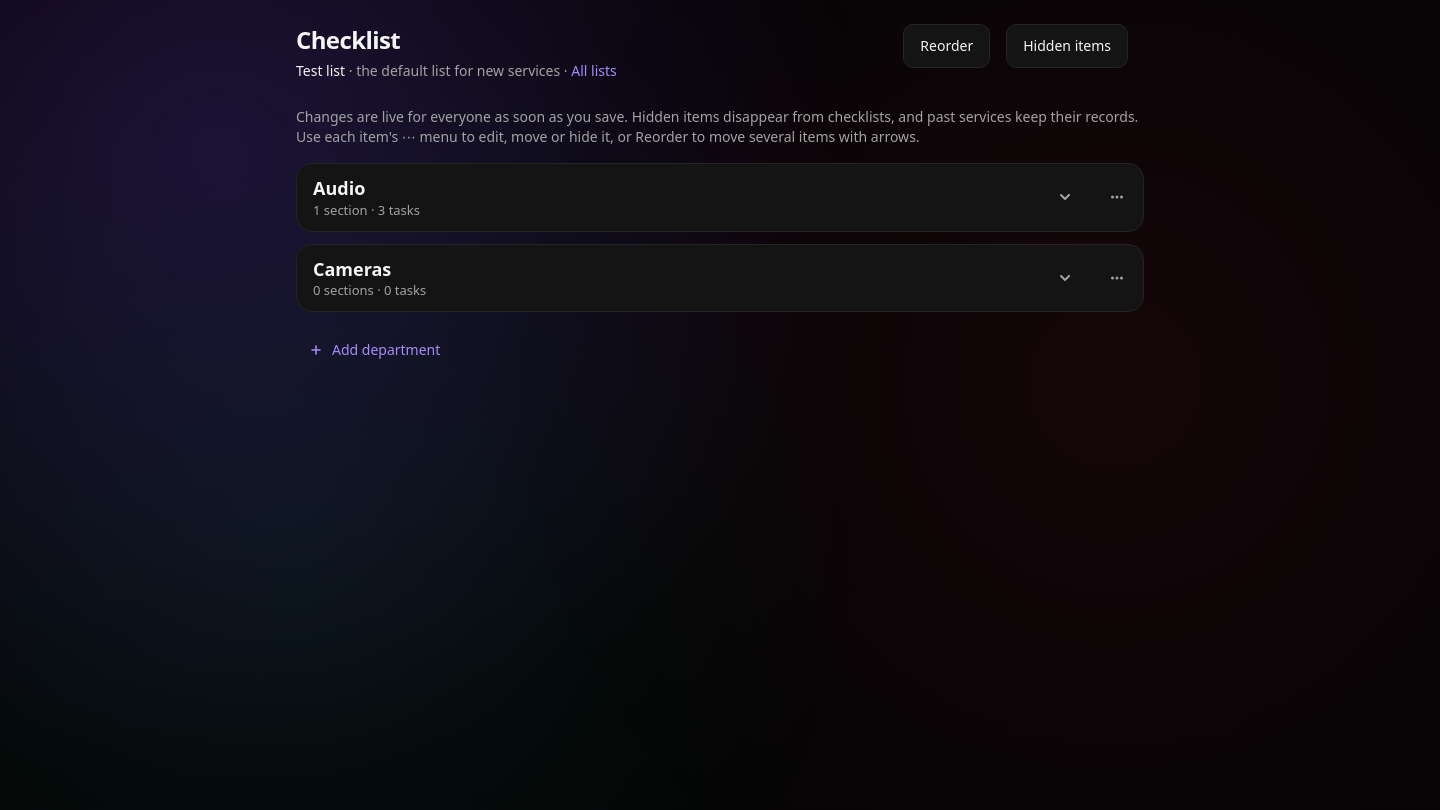
Test: Reorder mode › swaps each ⋯ menu for arrows, hides the Add buttons, and Done switches back
Expected: the text "Audio" is shown, 313,176 -> 365,200
Click the button "Audio 1 section · 3 tasks" at (339, 188), box 297,164 -> 1091,231
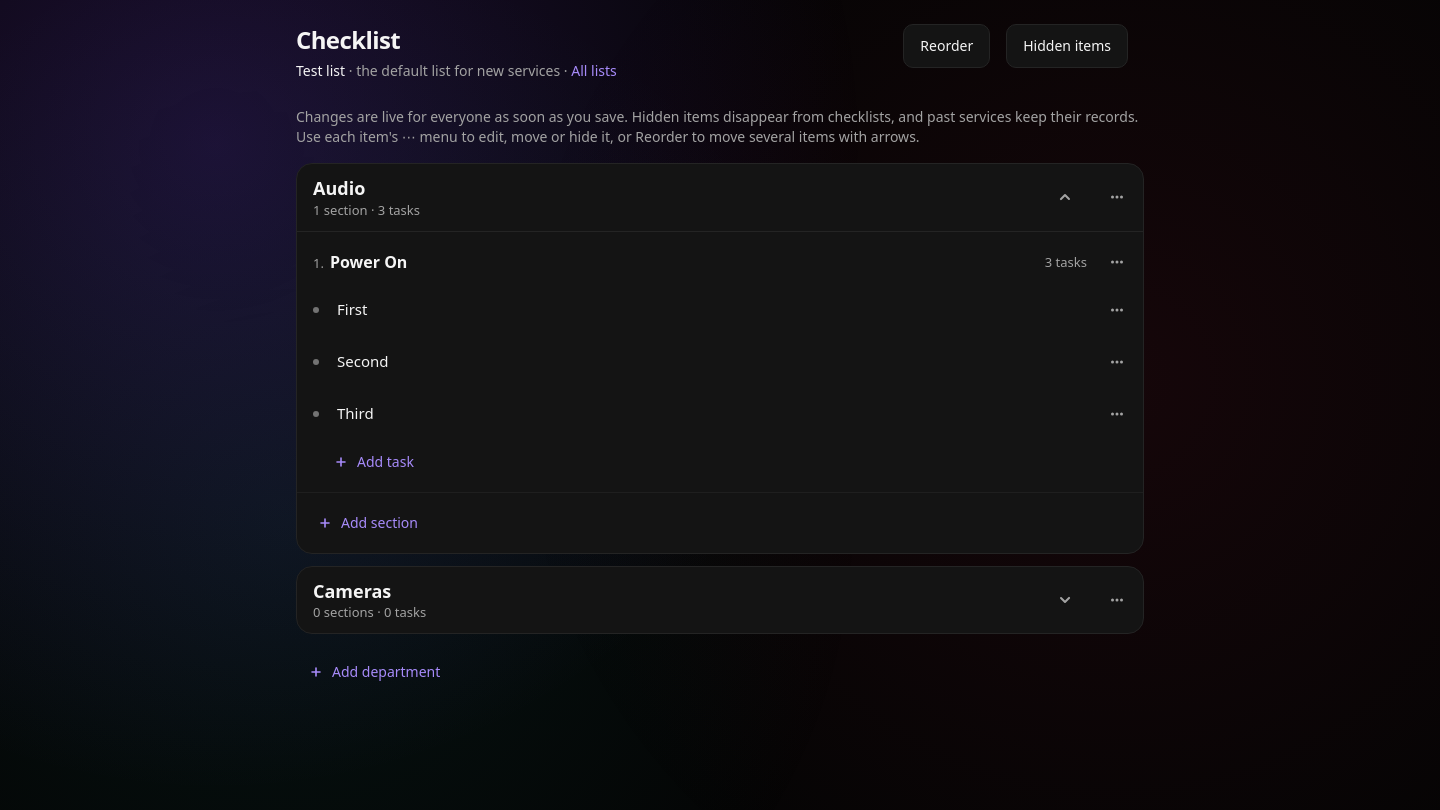
Click the button "Reorder" at (947, 46), box 903,24 -> 990,68
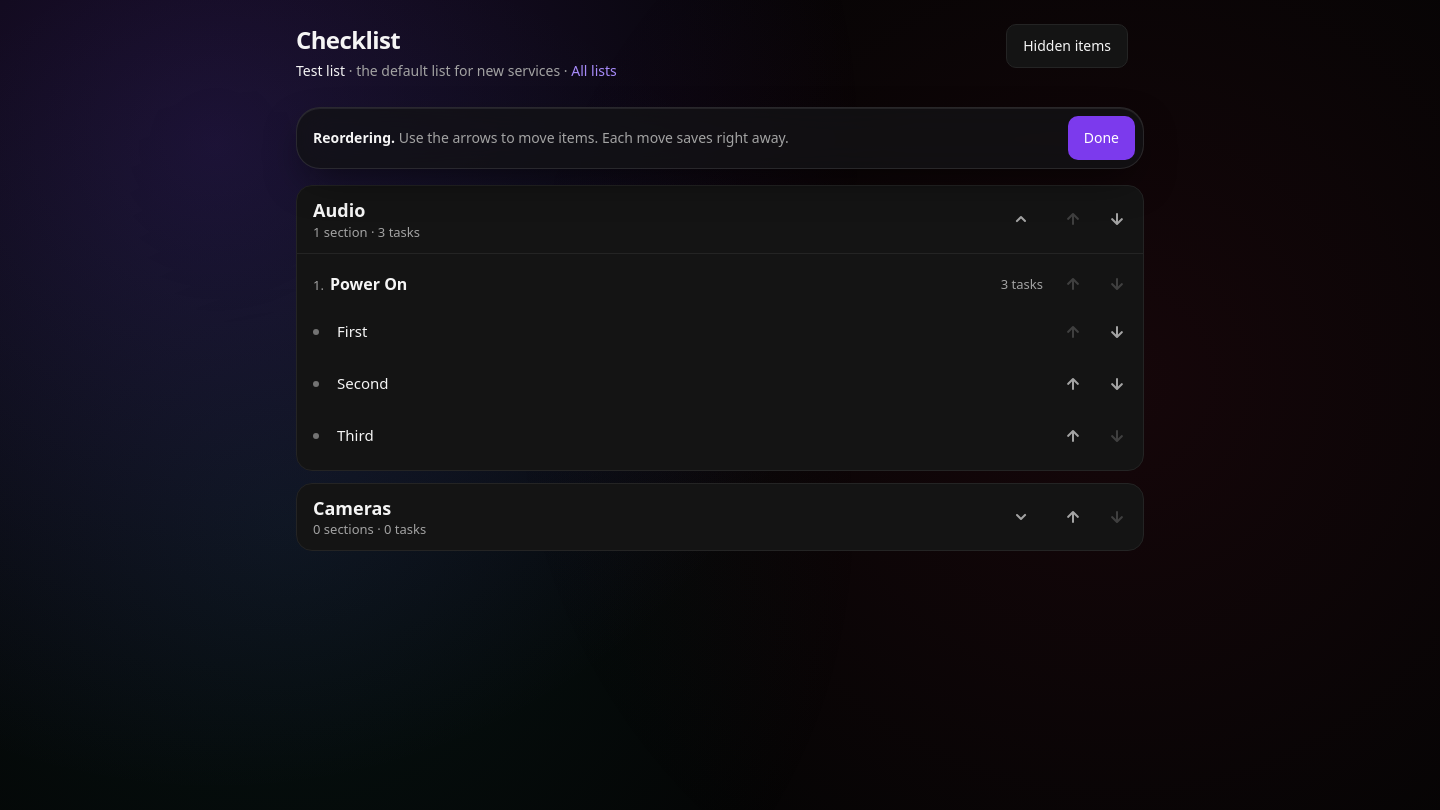
Expected: the button "Add task" is gone
Expected: the button "Add department" is gone
Expected: the text "Reordering." is shown, 313,128 -> 395,147
Click the button "Done" at (1101, 138), box 1068,116 -> 1135,160
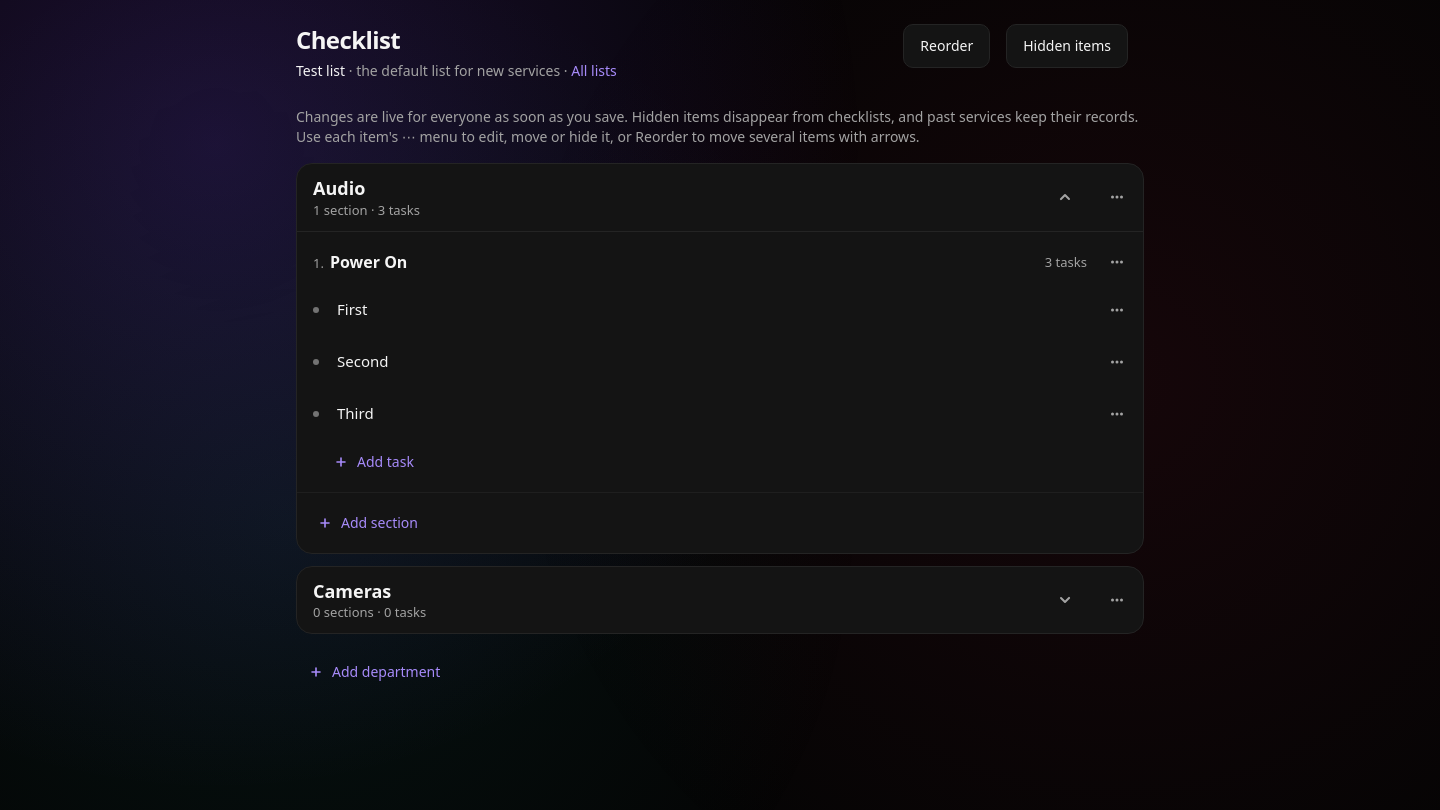
Expected: the button named "Actions for task: First" is shown, 1095,288 -> 1139,332
